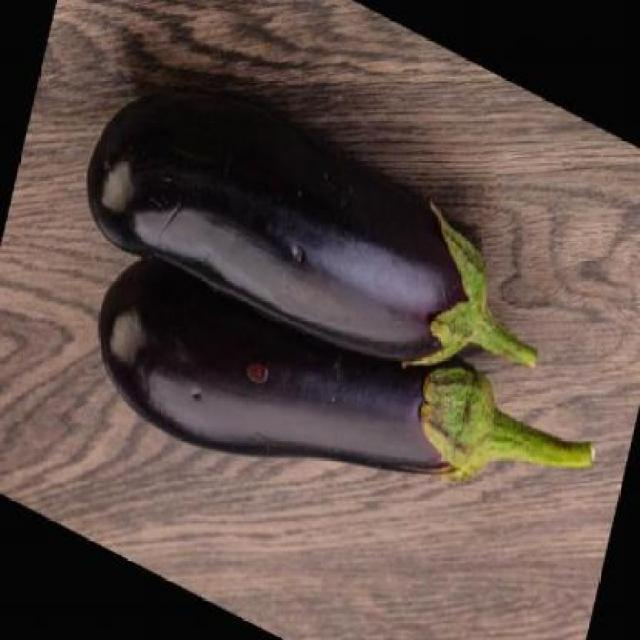eggplant: (81, 214, 608, 514), (71, 70, 564, 390)
